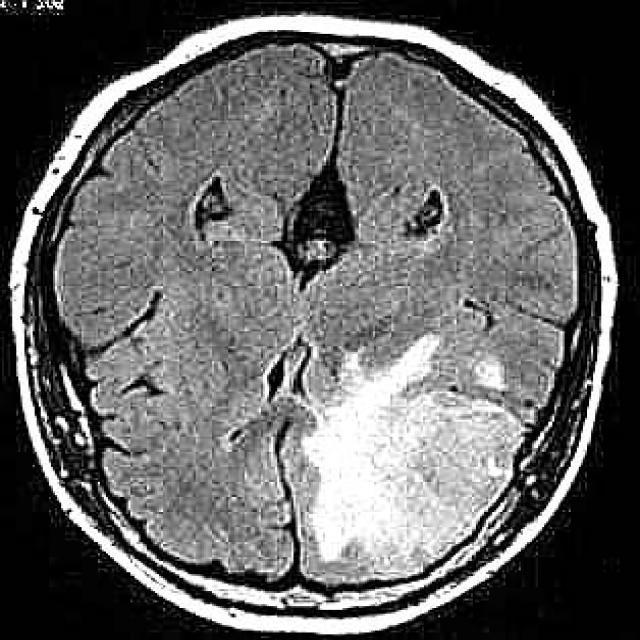Tumor: (301, 337, 529, 574)
